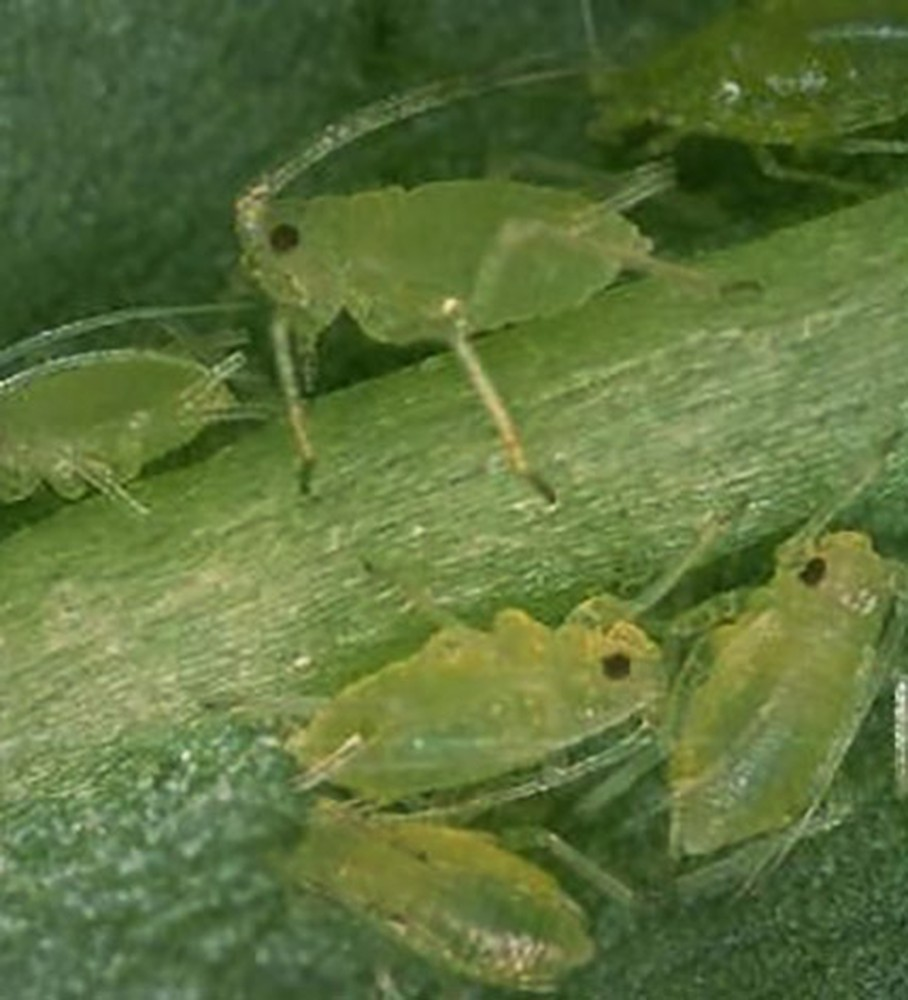Pulgon: (196, 111, 731, 482), (258, 551, 689, 813), (639, 489, 900, 912), (5, 271, 300, 551), (260, 793, 661, 995), (560, 9, 903, 204)
